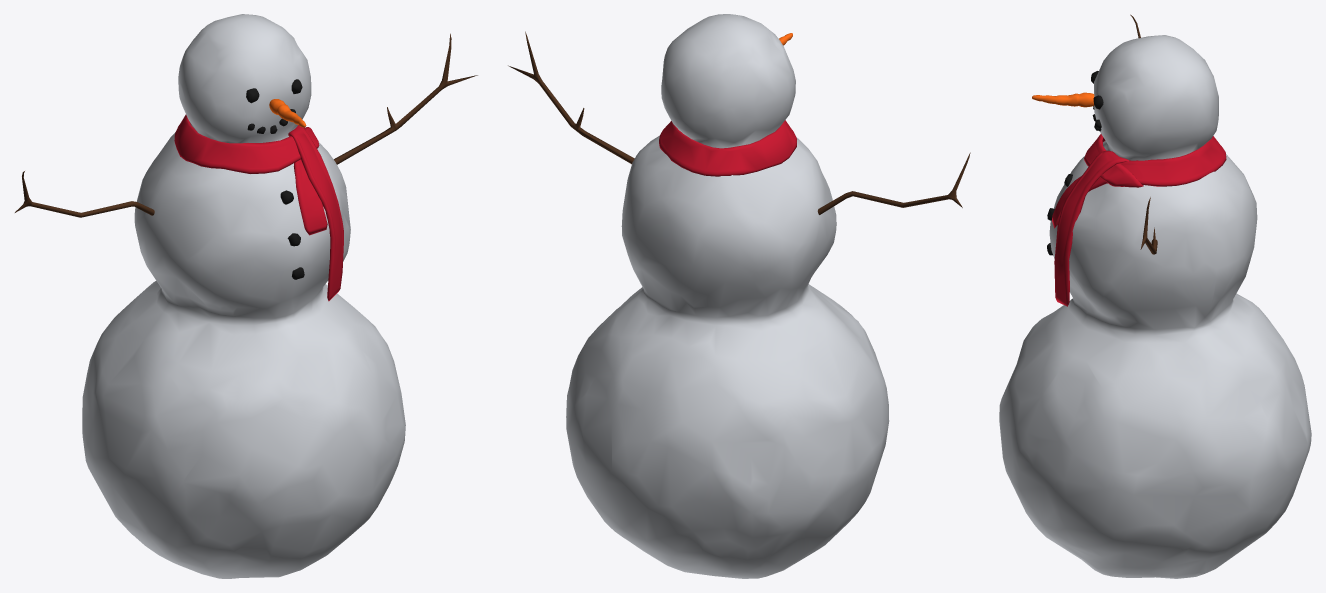
File: snowman.opt.glb
The picture shows the model from 3 angles, left to right: view 1: azimuth 30°, elevation 25°; view 2: azimuth 150°, elevation 25°; view 3: azimuth 270°, elevation 25°; orthographic projection. The views are drawn at different scales.
Parts seen in each view (by area): view 1: snowman; view 2: snowman; view 3: snowman.
Part boxes in pixels (x1,y1,x2,y2): snowman: (15,14,477,578); snowman: (508,14,970,578); snowman: (999,14,1311,578).
Size of the model in its own units: 1.47 by 1.65 by 0.8928.
